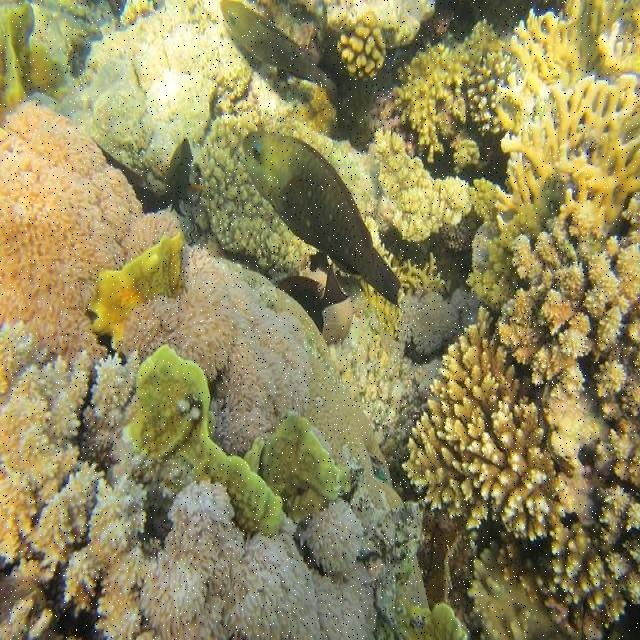fish: (242, 130, 402, 309), (221, 1, 337, 95)
reefs: (0, 100, 466, 637), (371, 2, 639, 635)
